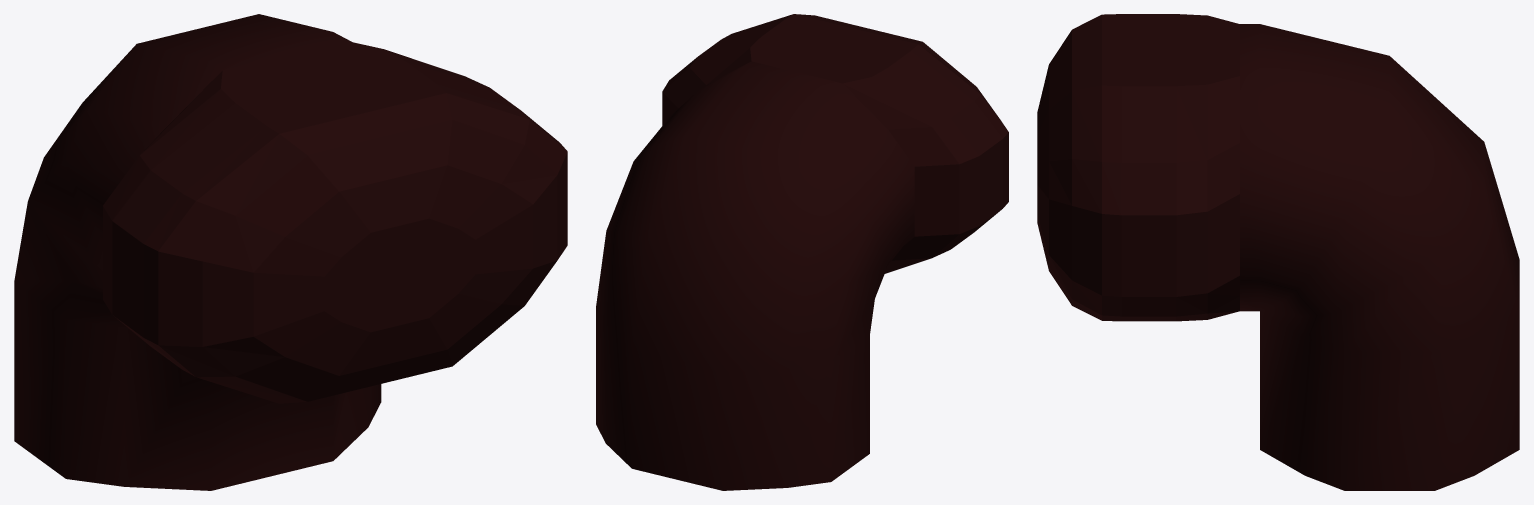
The model's file is Bollard_01.FBX.
The picture shows the model from 3 angles, left to right: view 1: azimuth 30°, elevation 25°; view 2: azimuth 150°, elevation 25°; view 3: azimuth 270°, elevation 25°; orthographic projection. The views are drawn at different scales.
Visible parts, largest first — view 1: Cylinder001; view 2: Cylinder001; view 3: Cylinder001.
Boxes of the visible parts, left/top/right/bottom form: Cylinder001: left=14, top=14, right=567, bottom=490; Cylinder001: left=596, top=14, right=1008, bottom=490; Cylinder001: left=1037, top=14, right=1519, bottom=490.
Size of the model in its own units: 31.78 by 31.31 by 36.59.
